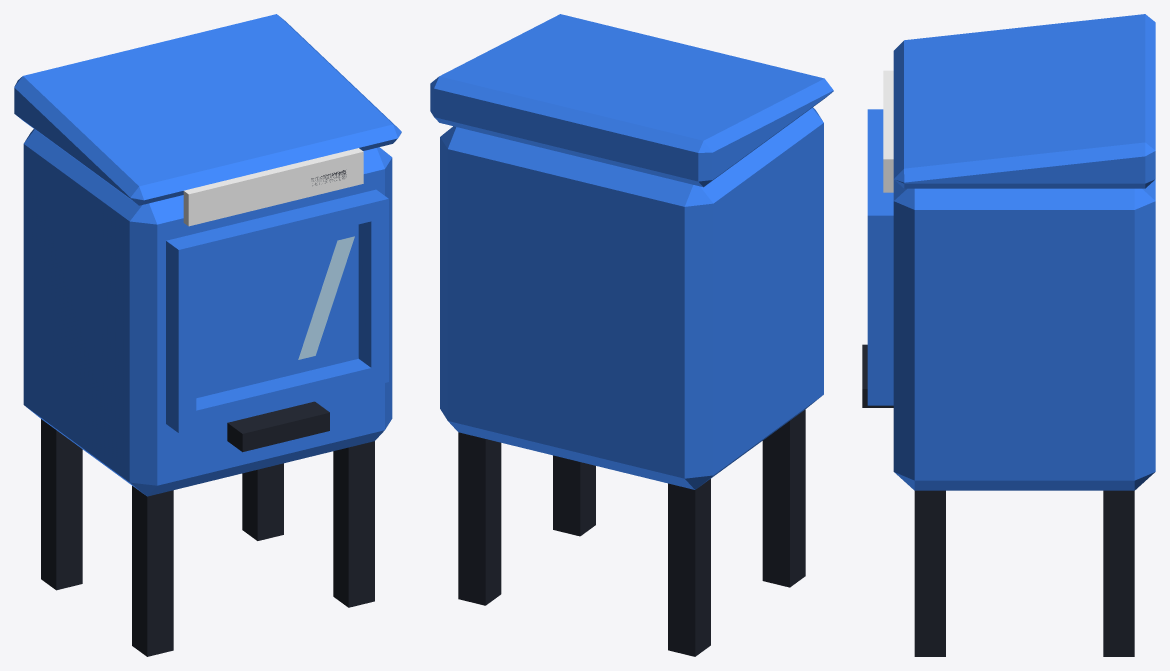
File: newspaper-box.glb
The picture shows the model from 3 angles, left to right: view 1: azimuth 30°, elevation 25°; view 2: azimuth 150°, elevation 25°; view 3: azimuth 270°, elevation 25°; orthographic projection. The views are drawn at different scales.
Visible parts, largest first — view 1: newspaper-box; view 2: newspaper-box; view 3: newspaper-box.
Part boxes in pixels (x1,y1,x2,y2): newspaper-box: (14, 14, 401, 656); newspaper-box: (430, 14, 833, 656); newspaper-box: (862, 14, 1155, 656).
Bounding box in the file's own units: 0.62 × 1.1 × 0.56.
